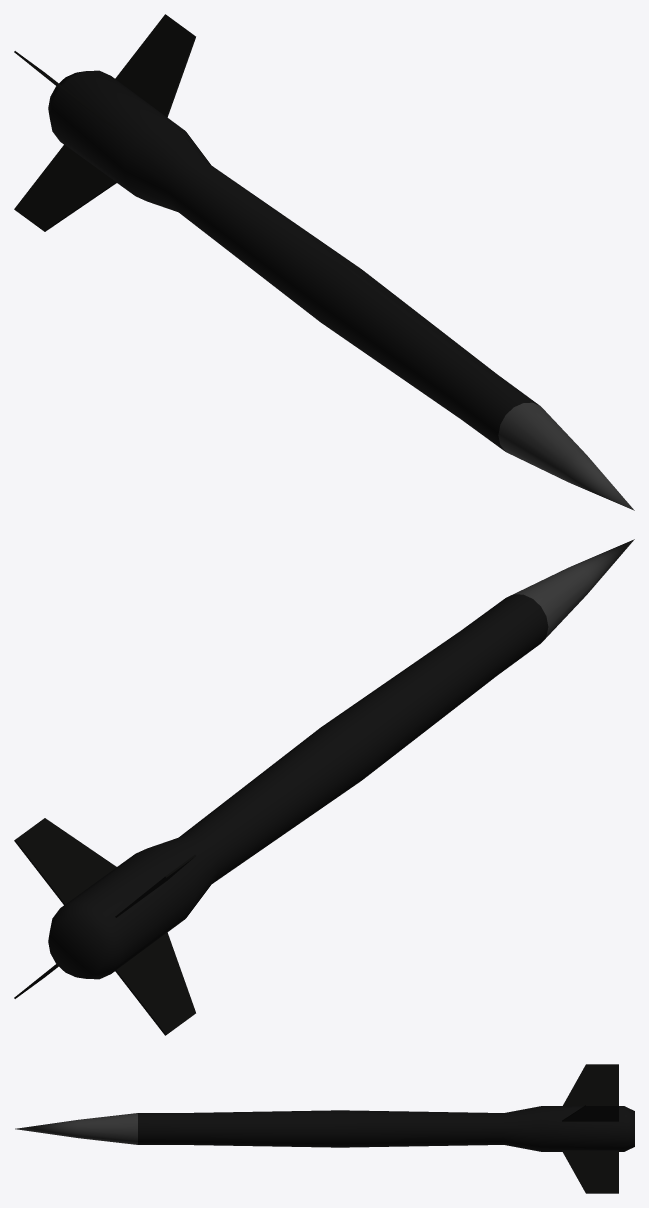
The model's file is katyusha_missile.fbx.
3 views of the same model, one above another, from view 1: azimuth 30°, elevation 25°; view 2: azimuth 150°, elevation 25°; view 3: azimuth 270°, elevation 25° (orthographic). The views are drawn at different scales.
Visible parts, largest first — view 1: kat_missile; view 2: kat_missile; view 3: kat_missile.
Boxes of the visible parts, box(x1,y1,x2,y2) form: kat_missile: box(14, 14, 634, 510); kat_missile: box(14, 539, 634, 1035); kat_missile: box(15, 1064, 634, 1193).
Size of the model in its own units: 96.68 by 96.68 by 614.
